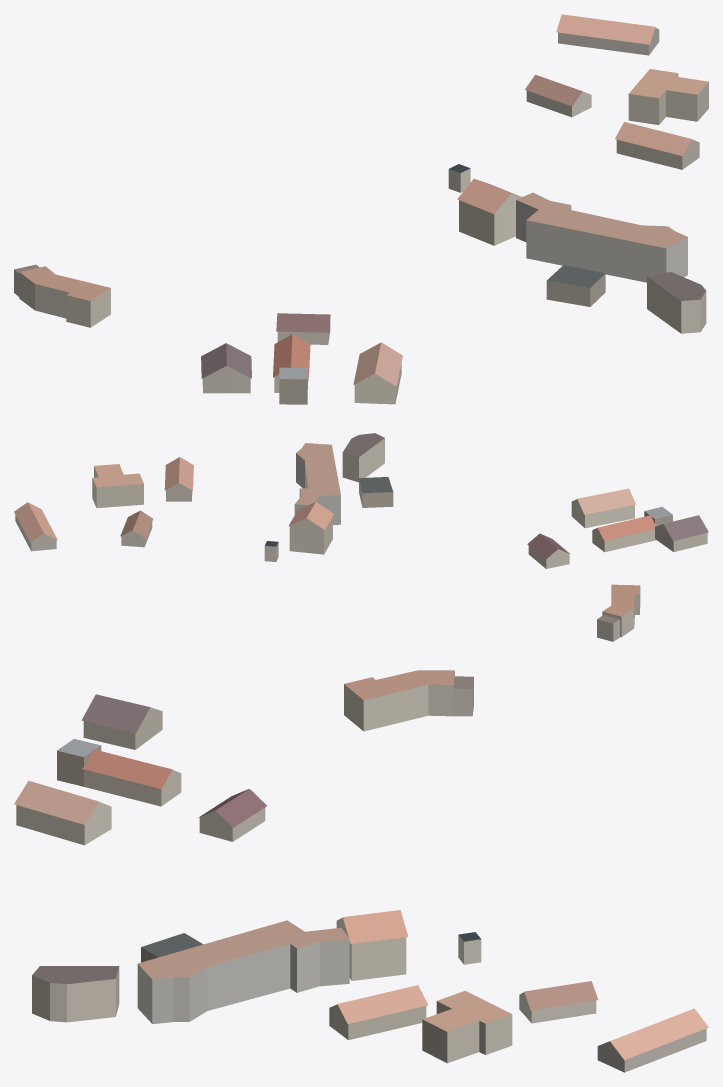
The picture shows the model from 3 angles, top to bottom: view 1: azimuth 30°, elevation 25°; view 2: azimuth 150°, elevation 25°; view 3: azimuth 270°, elevation 25°; orthographic projection. The views are drawn at different scales.
Visible parts, largest first — view 1: tuile; view 2: tuile; view 3: tuile.
Part boxes in pixels (x1,y1,x2,y2): tuile: [14, 14, 708, 404]; tuile: [14, 433, 708, 641]; tuile: [14, 670, 708, 1072].
Size of the model in its own units: 209 by 20.94 by 151.
